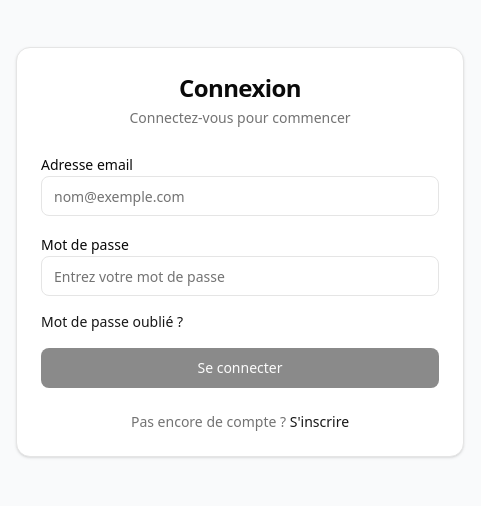
Test: Login Component › devrait afficher une erreur en cas d'échec de la connexion
The image size is (481, 506).
Type "test@exemple.com" into the field labelled "Adresse email" at (240, 196), box [41,176,439,216]
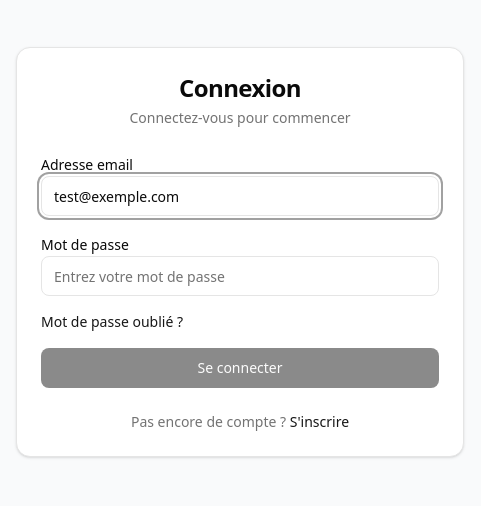
Type "WrongPassword" into the password field labelled "Mot de passe" at (240, 276), box [41,256,439,296]
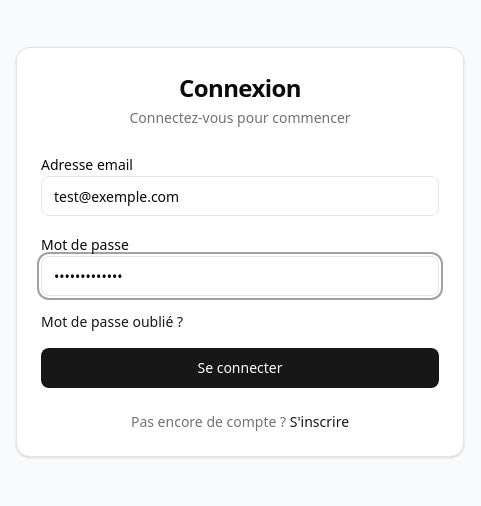
Click the button "Se connecter" at (240, 368), box [41,348,439,388]
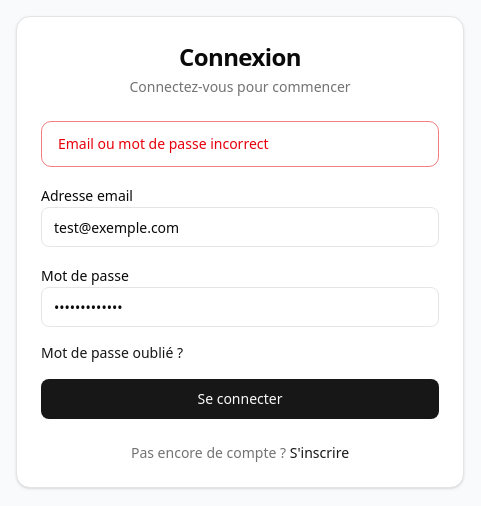
Now the text "Email ou mot de passe incorrect" is shown, box [58,134,269,153]
